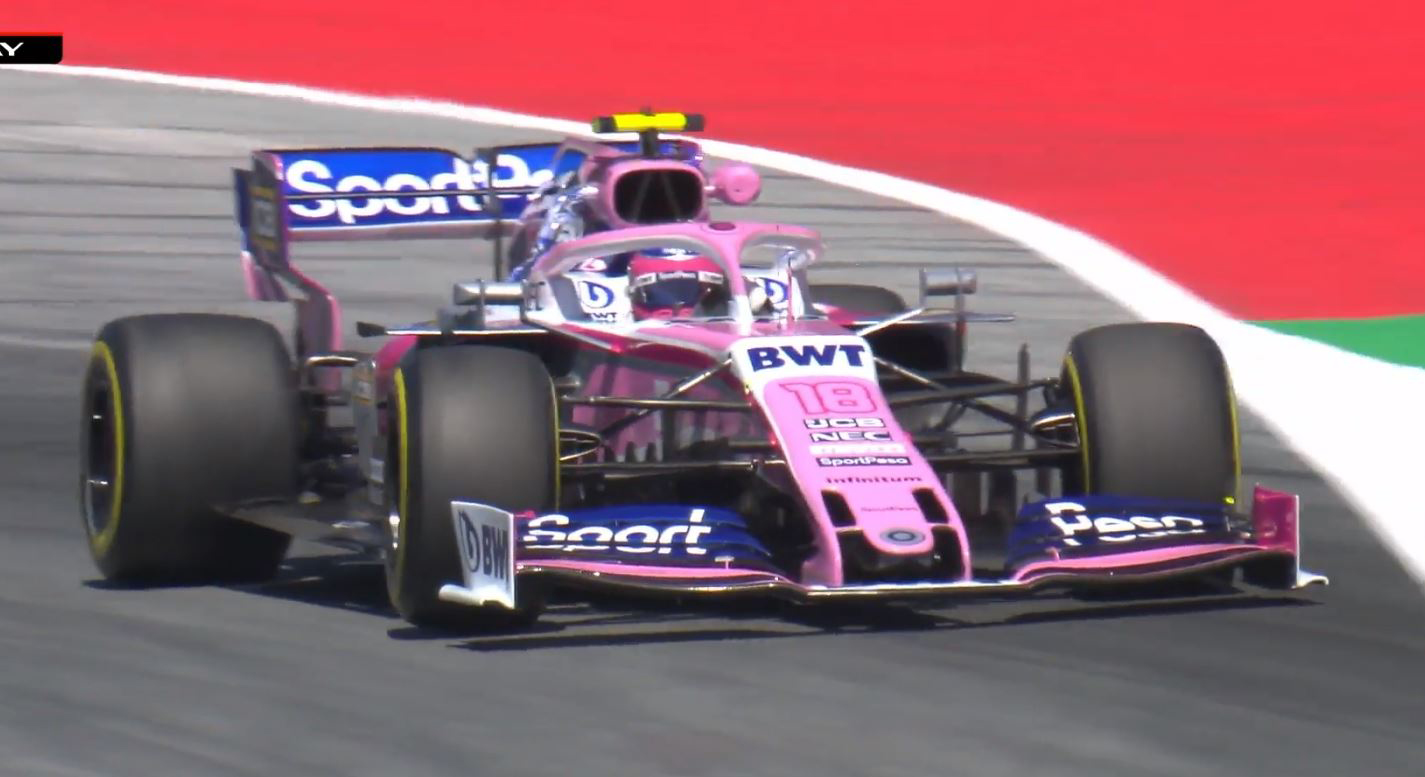F1 Car: (74, 102, 1345, 650)
